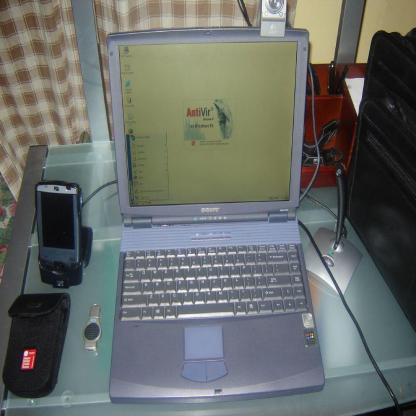board: (96, 27, 330, 400)
